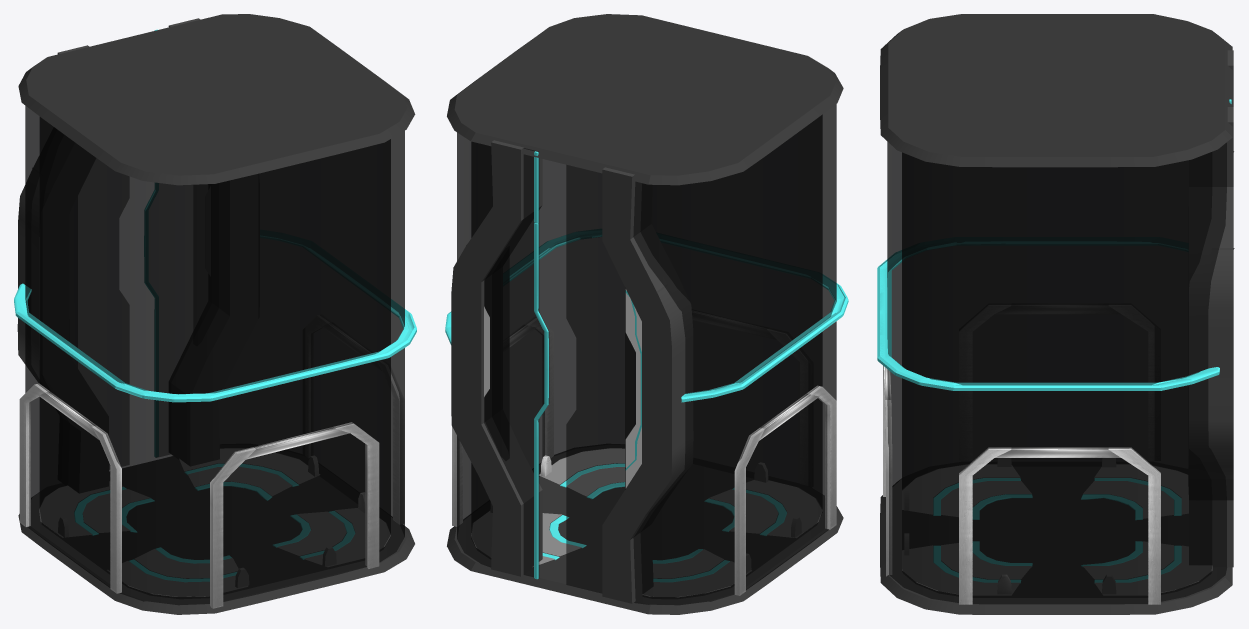
File: sci_fi_elevator.glb
3 renders of one model, left to right at view 1: azimuth 30°, elevation 25°; view 2: azimuth 150°, elevation 25°; view 3: azimuth 270°, elevation 25°, orthographic. The views are drawn at different scales.
Parts seen in each view (by area): view 1: pCube16; view 2: pCube16; view 3: pCube16.
Boxes of the visible parts, box(x1,y1,x2,y2) form: pCube16: box(14, 14, 416, 614); pCube16: box(445, 14, 848, 614); pCube16: box(877, 14, 1234, 614).
Size of the model in its own units: 1.39 by 1.94 by 1.38.
7 materials, 1 textured.
